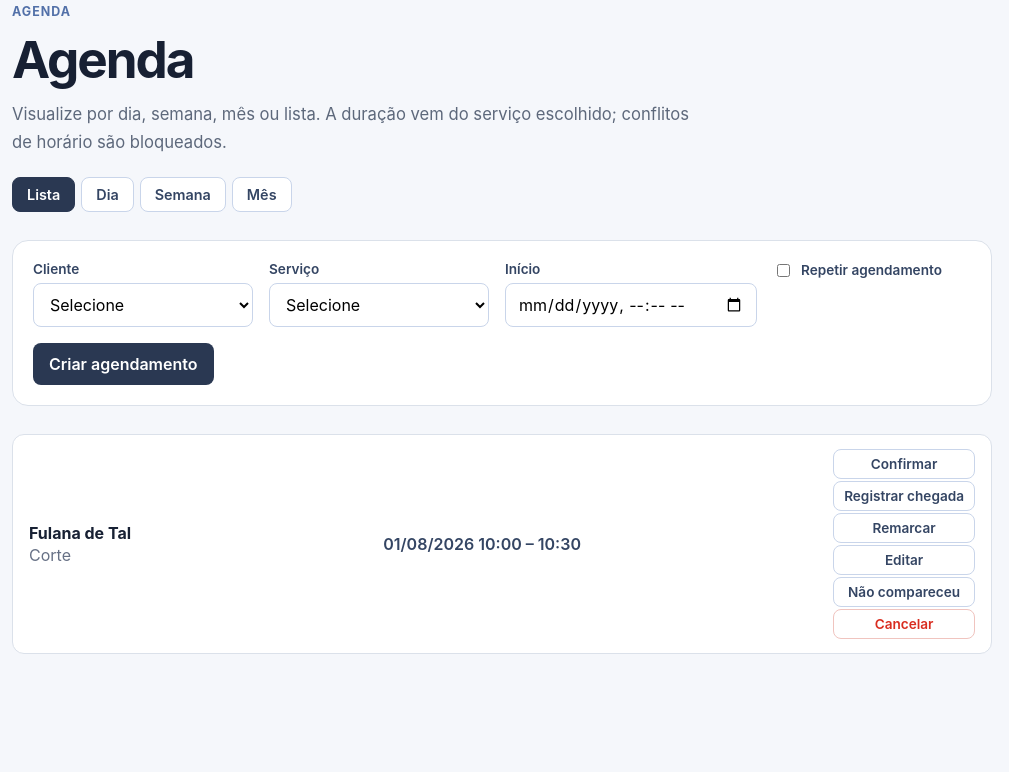
Test: AgendaPageComponent › cancels an appointment and shows the reason
The width and height of the screenshot is (1009, 772).
Click the button with class "link-button--danger" at (904, 624), box [833,609,975,639]
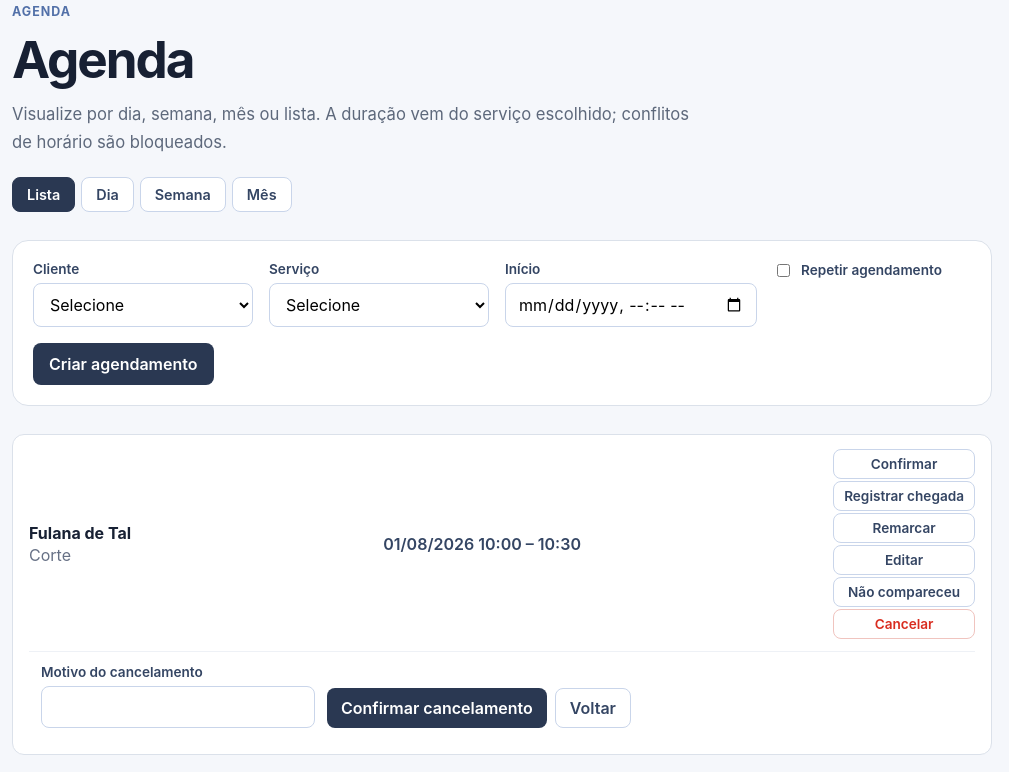
Type "Cliente remarcou por telefone." into the field named "reason" at (178, 707), box [41,686,315,728]
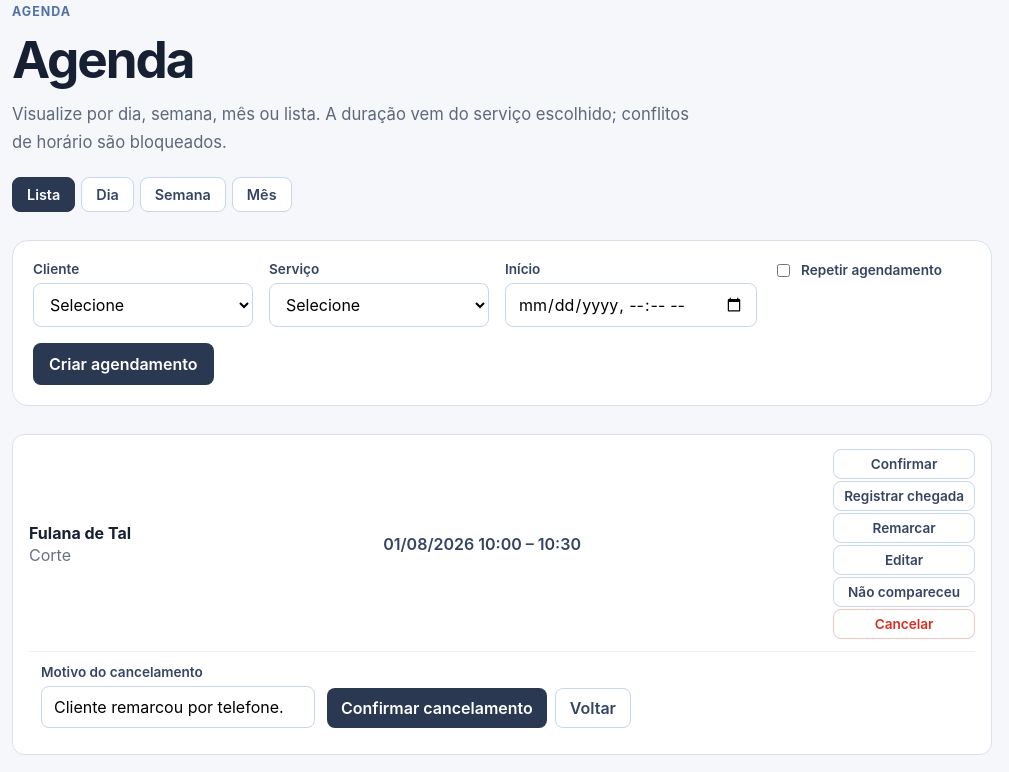
Submit the form with class "row-form", box [29,651,975,740]
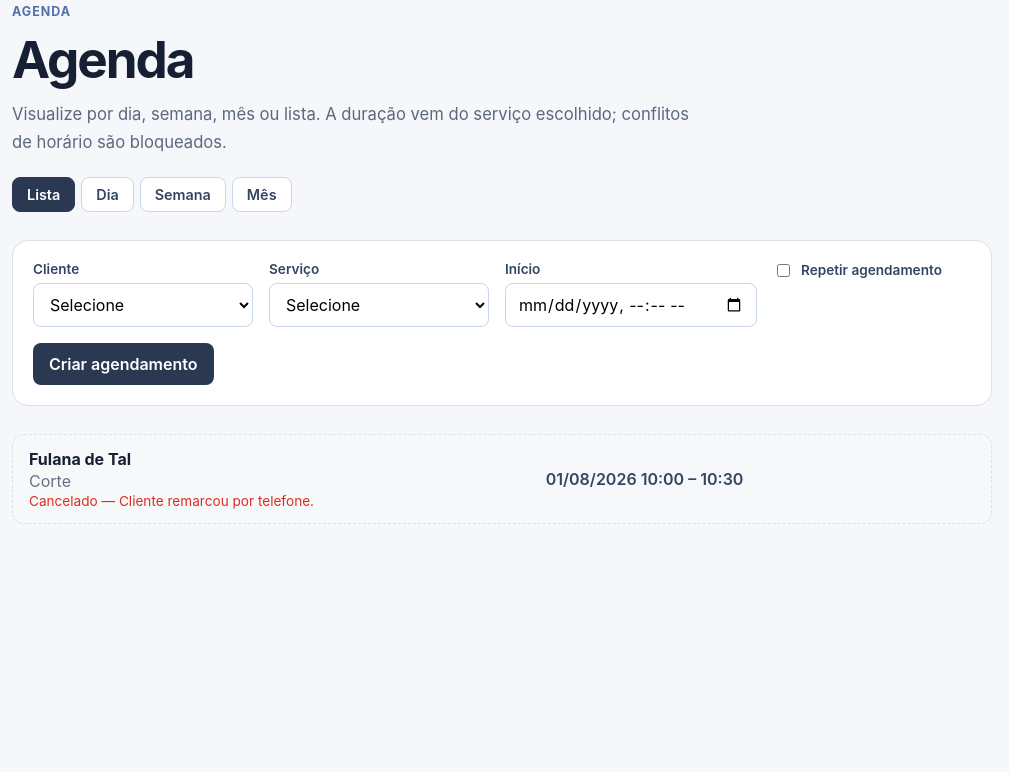
Expected: the text "Cancelado — Cliente remarcou por telefone." is shown, [29,493,314,509]
